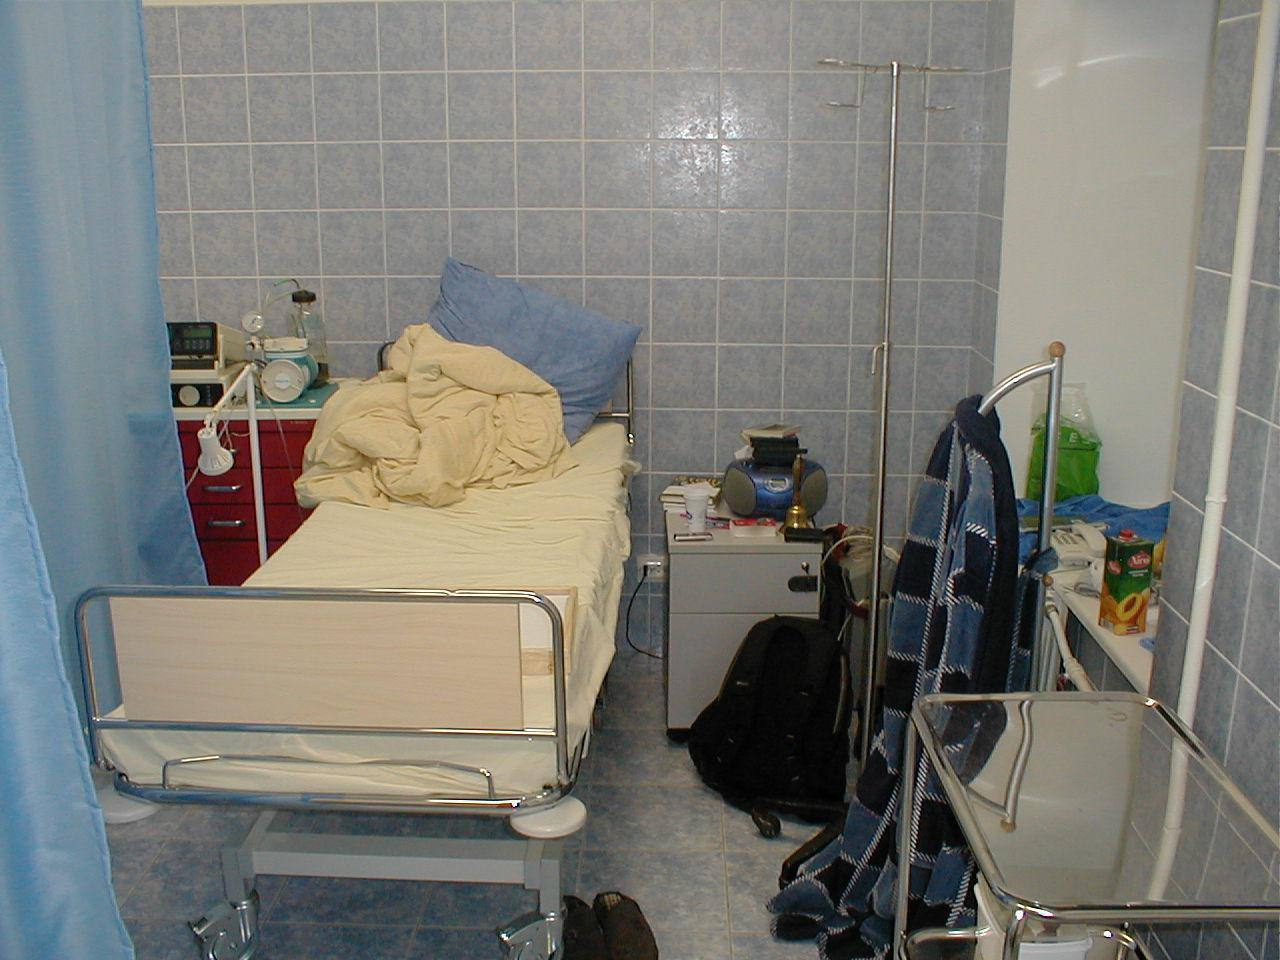Cama: (75, 335, 644, 813)
Otro Obstaculo: (697, 590, 846, 839)
